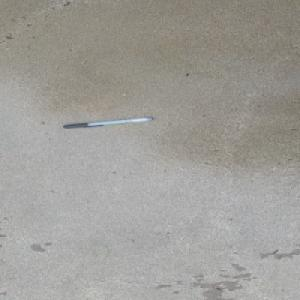Pen: (62, 116, 154, 129)
